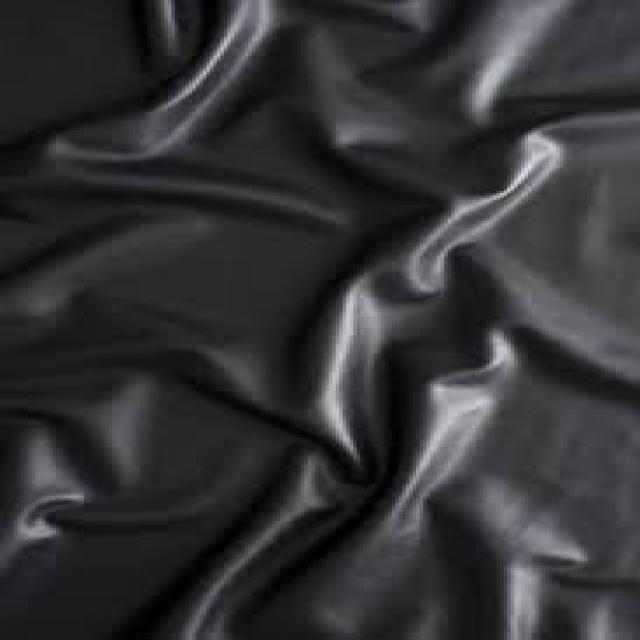Crease: (30, 145, 358, 548), (309, 120, 608, 551)
